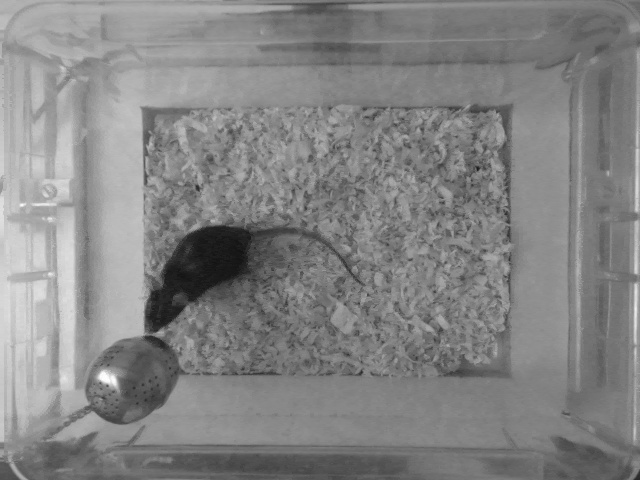mice: (138, 223, 369, 333)
